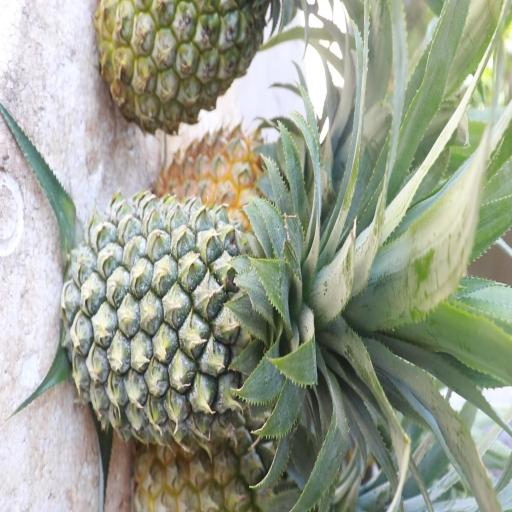------------------------------: (96, 0, 277, 132)
